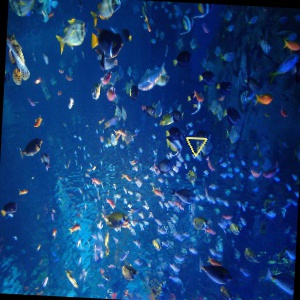triangle: (184, 133, 209, 158)
